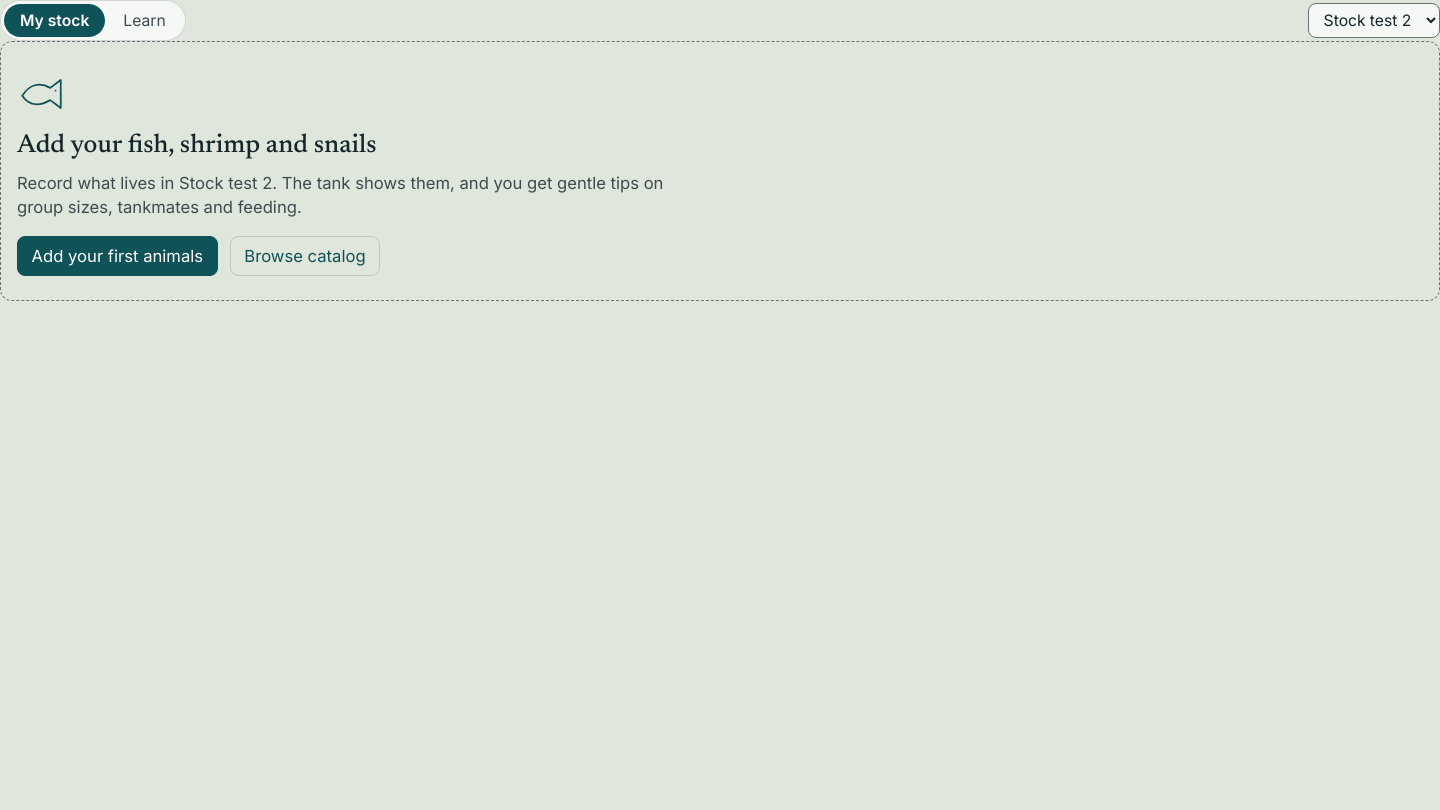
Test: adding stock › adds from the catalog in two taps with the group size prefilled
Expected: the navigation bar named "Stock sections" is shown, top-left (0, 0), bottom-right (186, 41)
Click the button "Add your first animals" at (117, 256), box top-left (17, 236), bottom-right (218, 276)
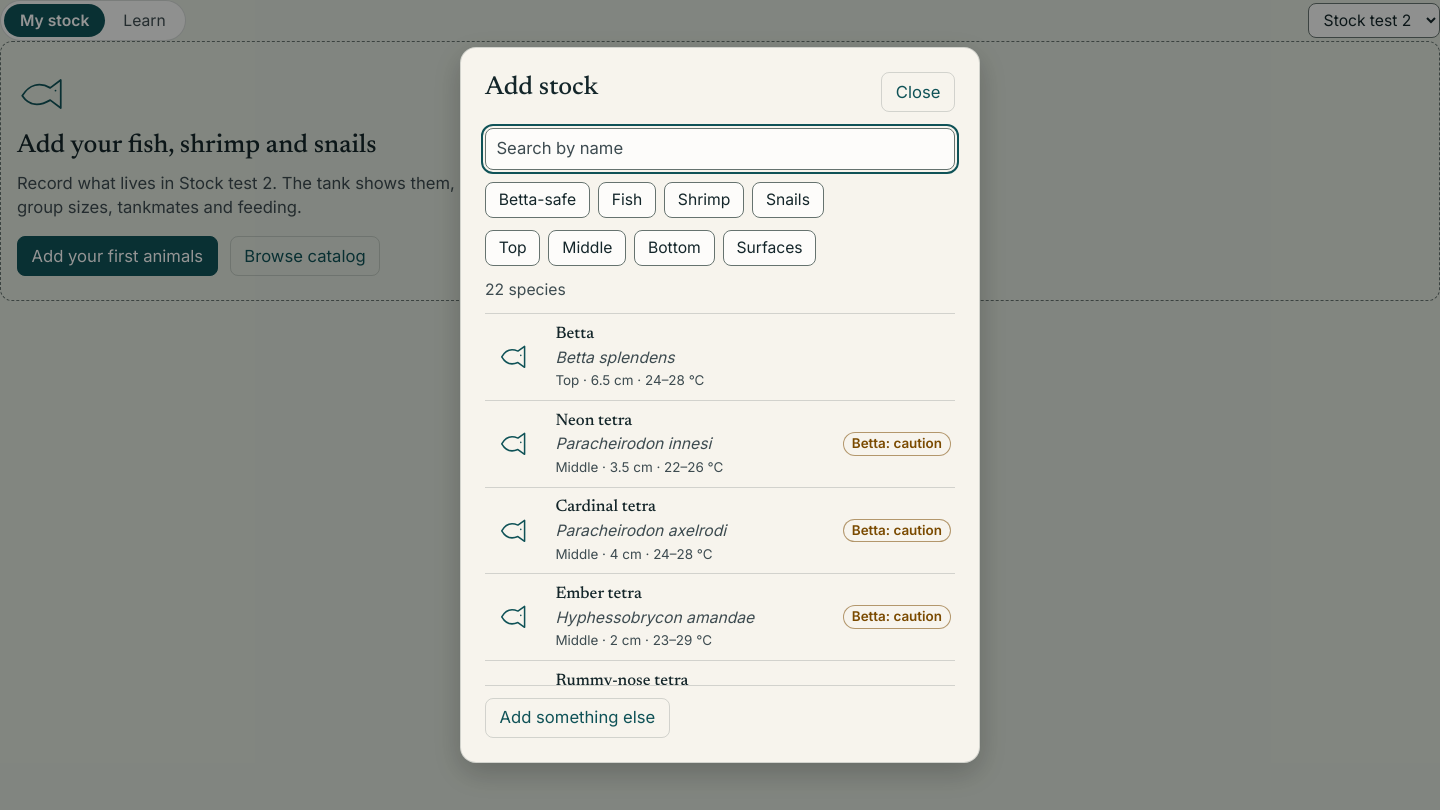
Now the text "22 species" is shown, box top-left (485, 280), bottom-right (566, 299)
Type "neon" into the search field named "Search animals" at (720, 149), box top-left (485, 128), bottom-right (955, 170)
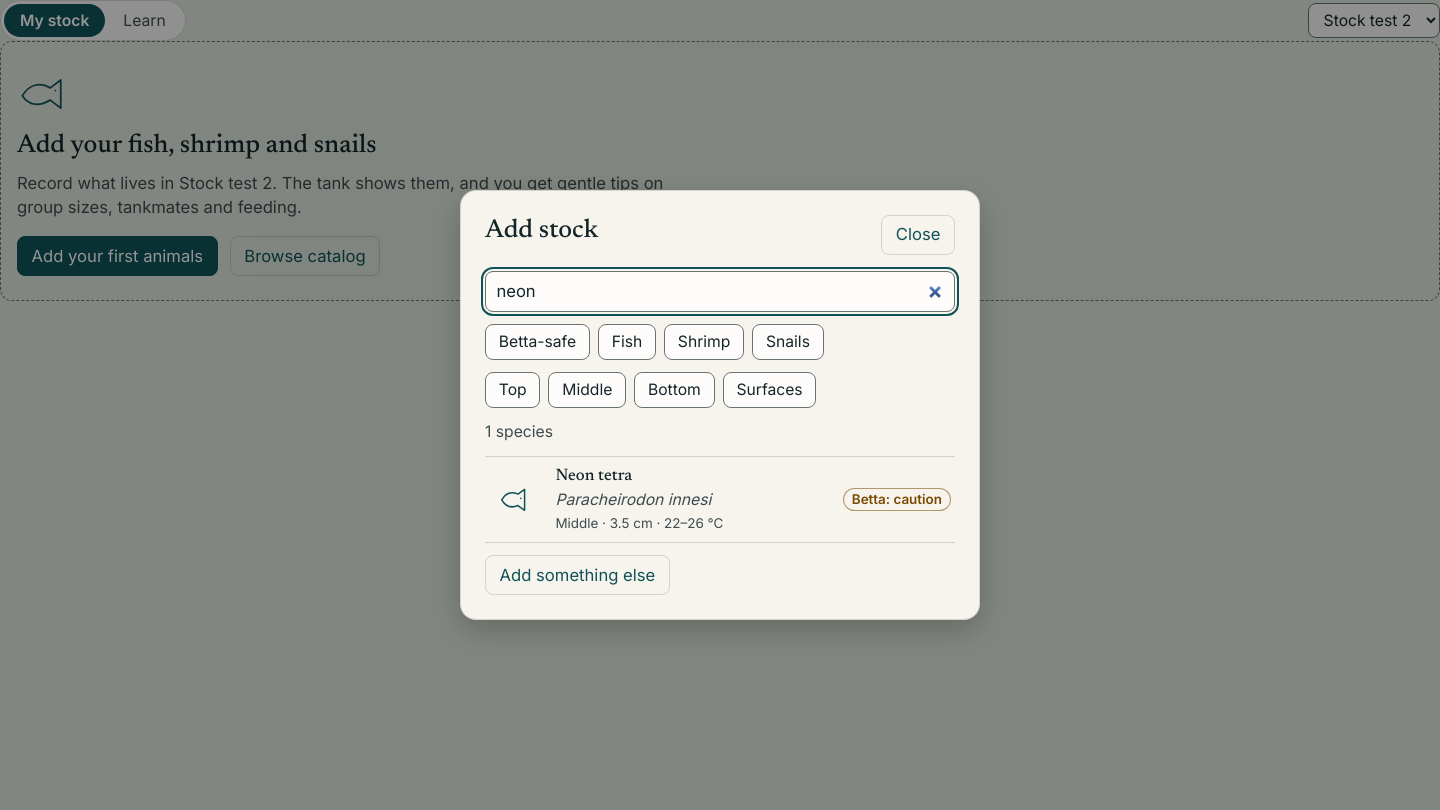
Now the text "1 species" is shown, box top-left (485, 422), bottom-right (553, 441)
Click the button "Neon tetra" at (516, 500), box top-left (485, 457), bottom-right (955, 542)
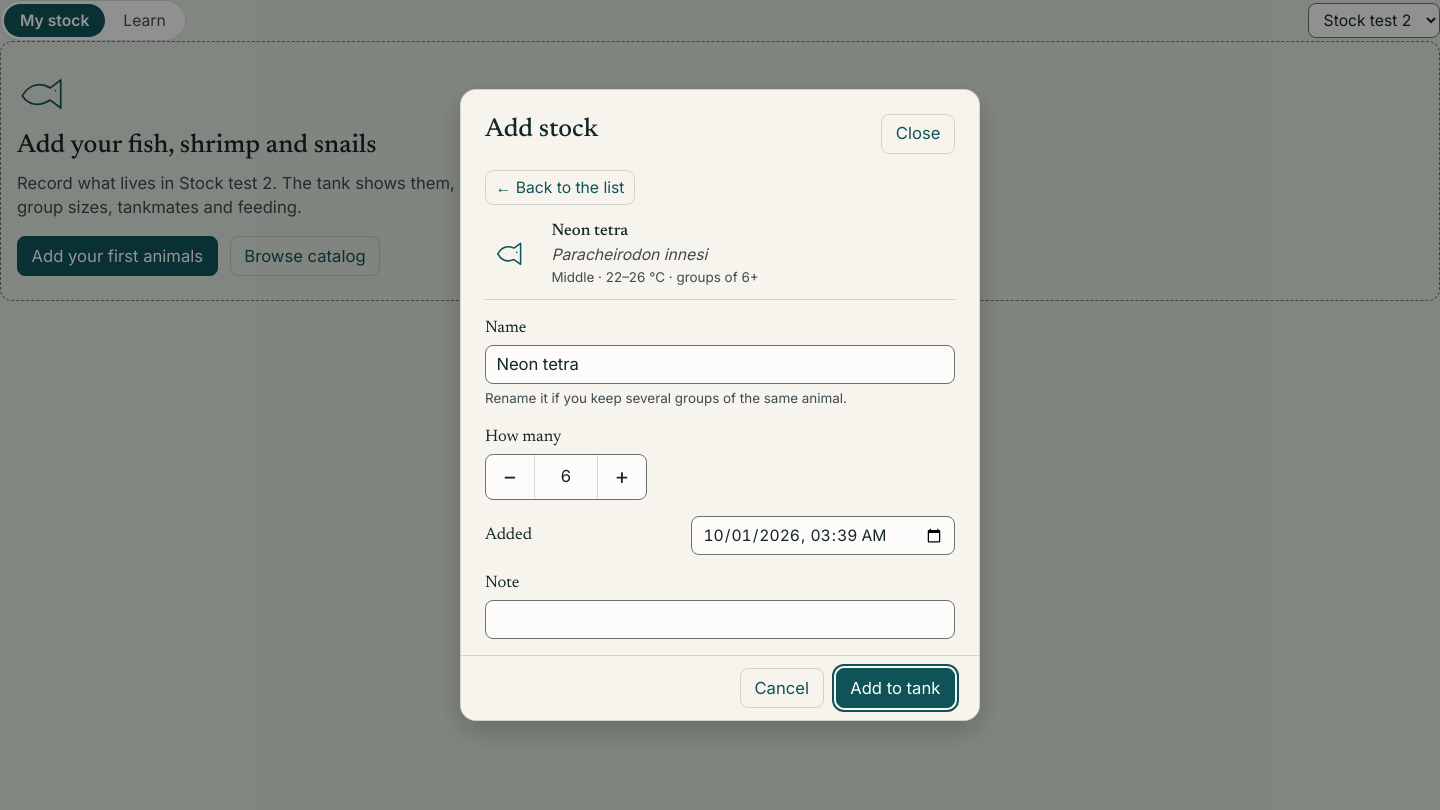
Now the field labelled "Name" holds "Neon tetra", box top-left (485, 345), bottom-right (955, 384)
Now the field labelled "How many" holds "6", box top-left (534, 454), bottom-right (598, 498)
Click the button "Add to tank" at (895, 688), box top-left (836, 668), bottom-right (955, 708)
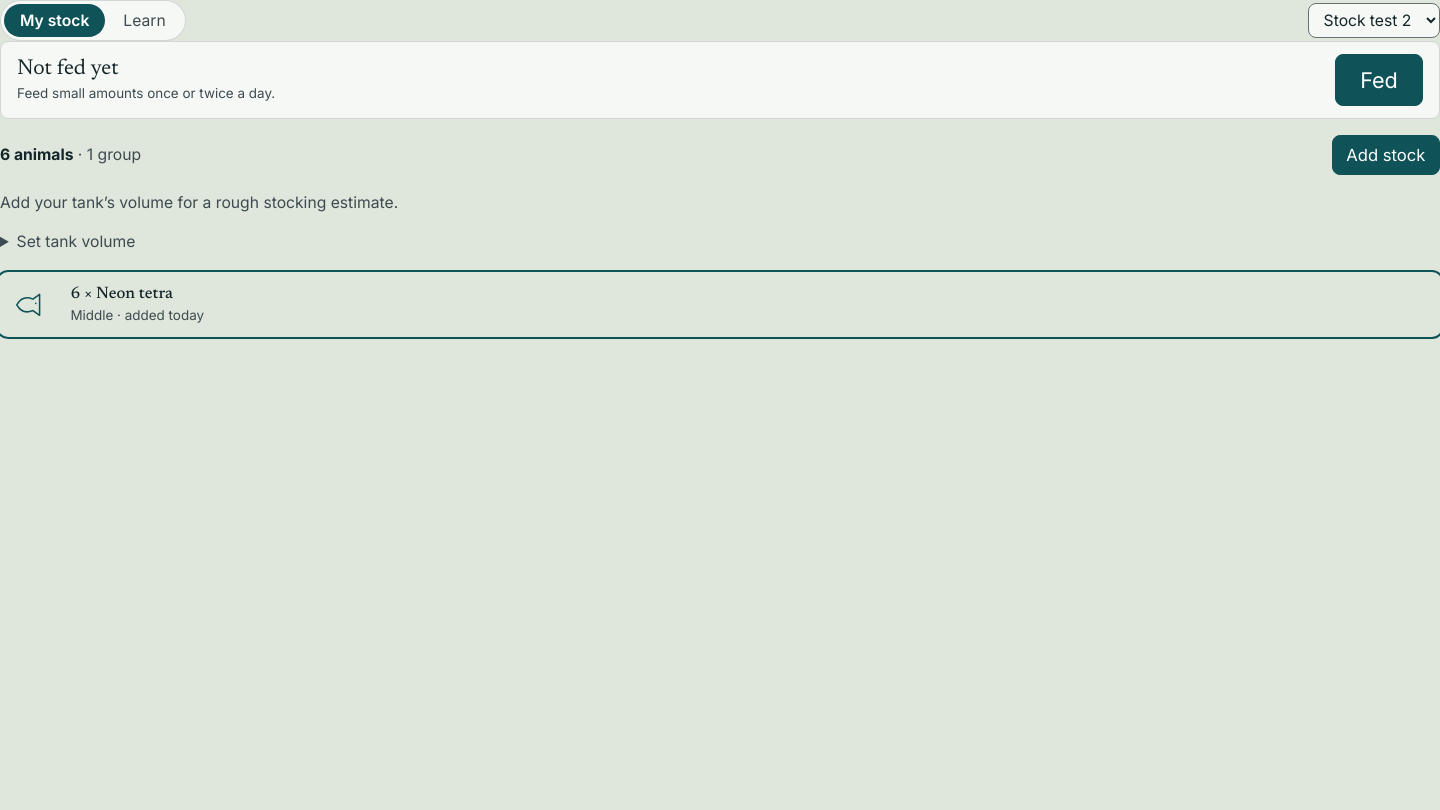
Now the button "Add stock" is shown, box top-left (1332, 135), bottom-right (1439, 175)
Now the dialog is gone
